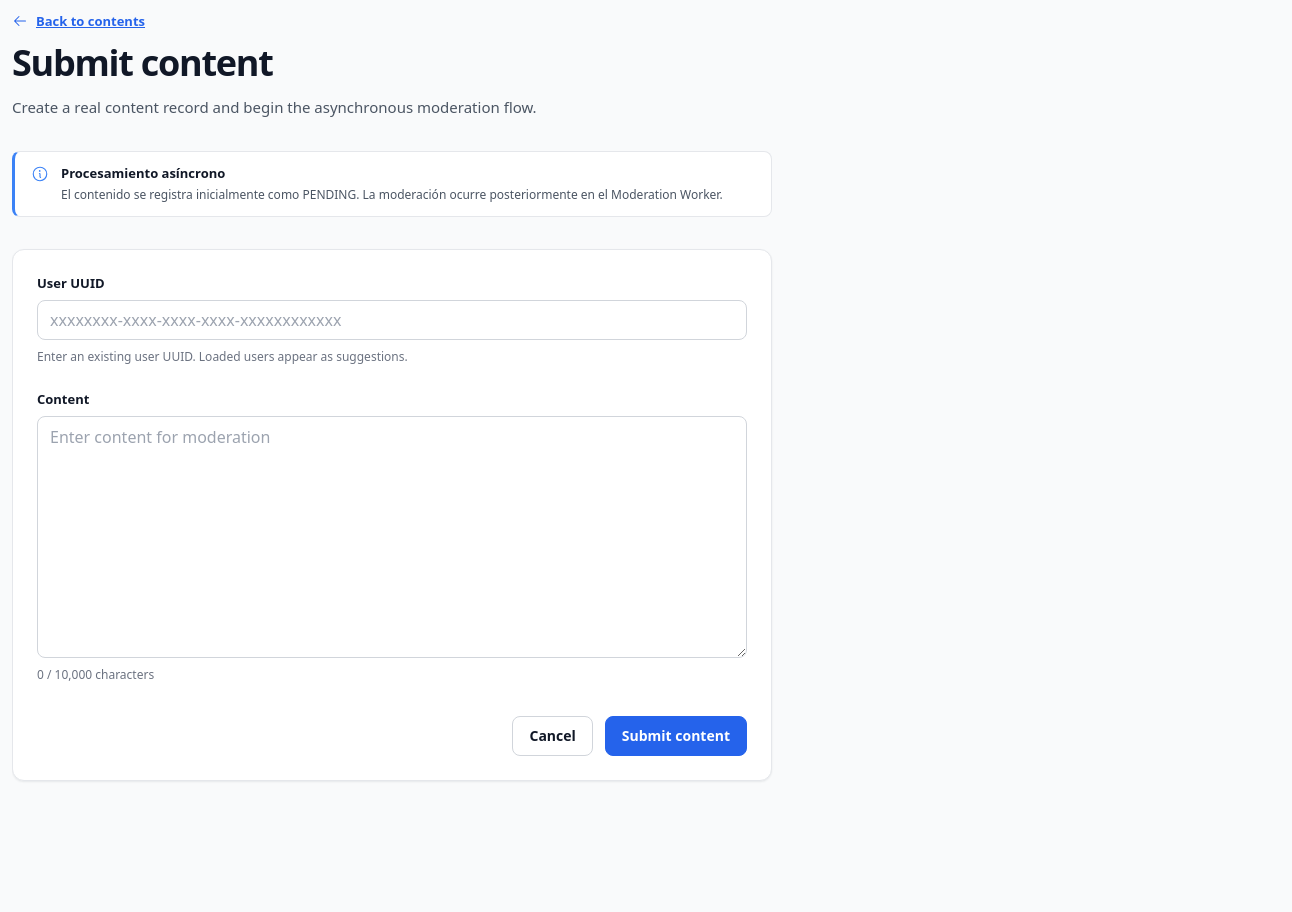
Test: CreateContentPage › submits the real DTO shape and navigates to content detail
Step 1. Type "11111111-1111-4111-8111-111111111111" into the field labelled "User UUID" → (392, 320), box [37, 300, 747, 340]
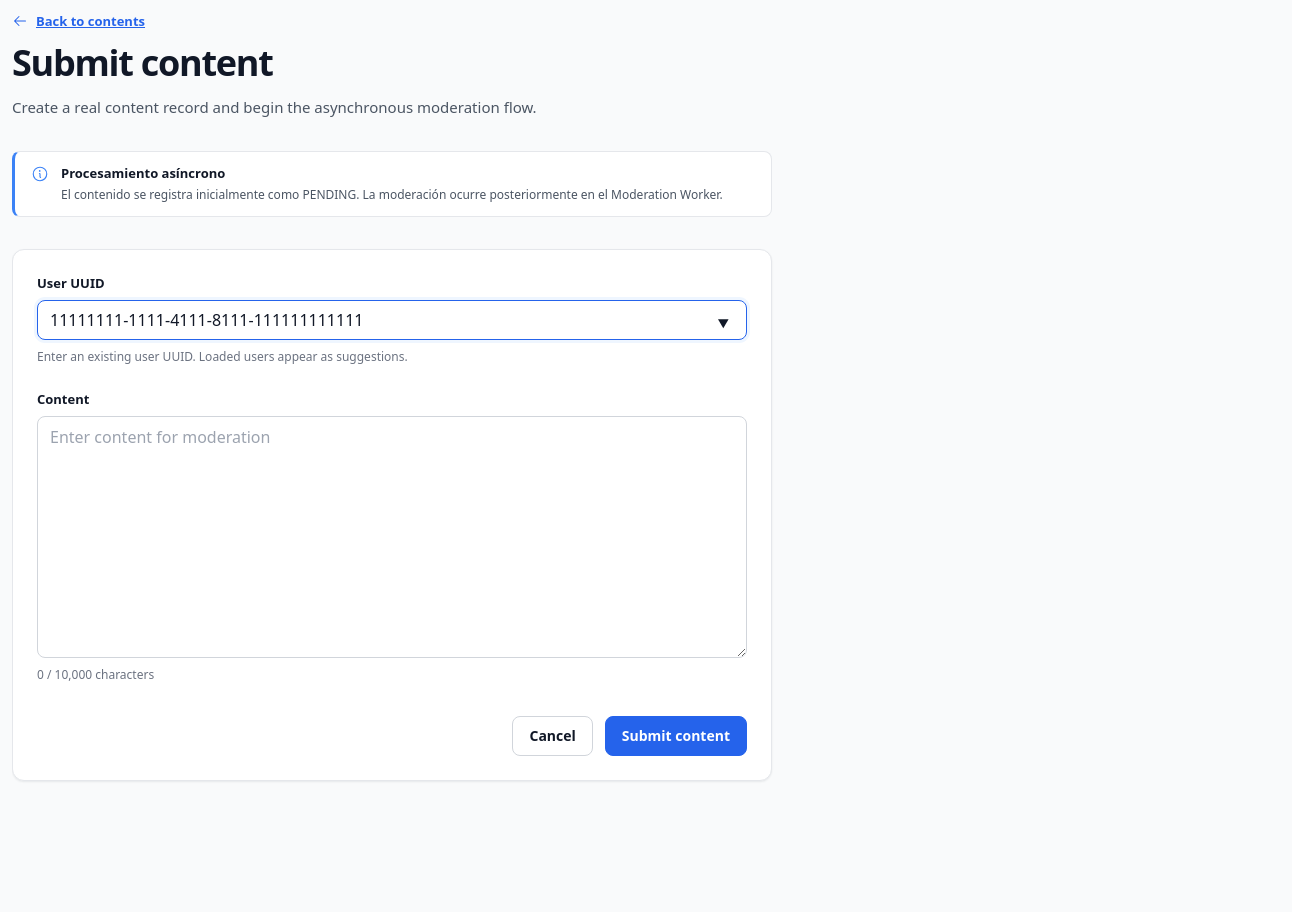
Step 2. Type "A real submission" into the text box labelled "Content" → (392, 537), box [37, 416, 747, 658]
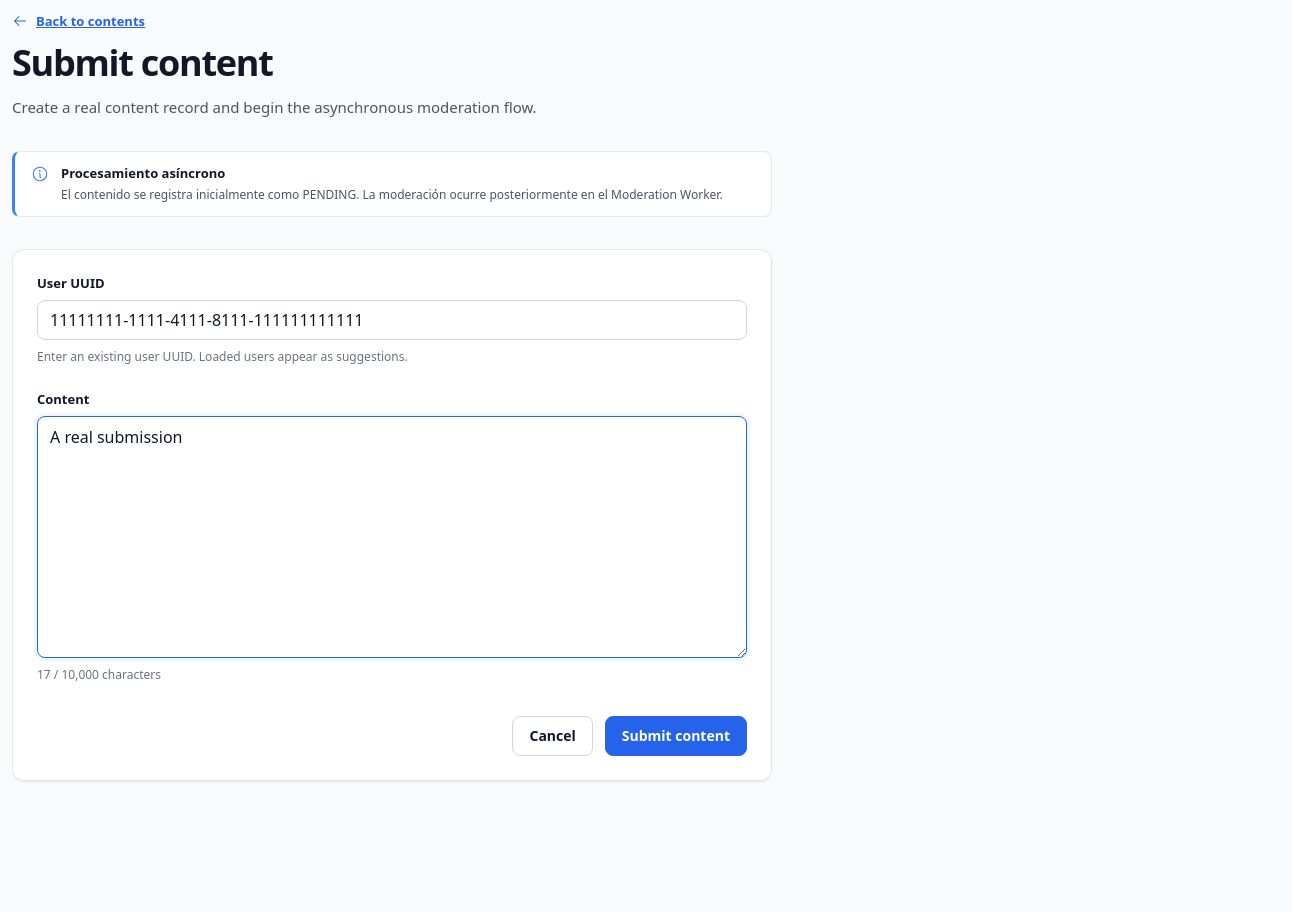
Step 3. Click the button "Submit content" → (676, 736), box [605, 716, 747, 756]
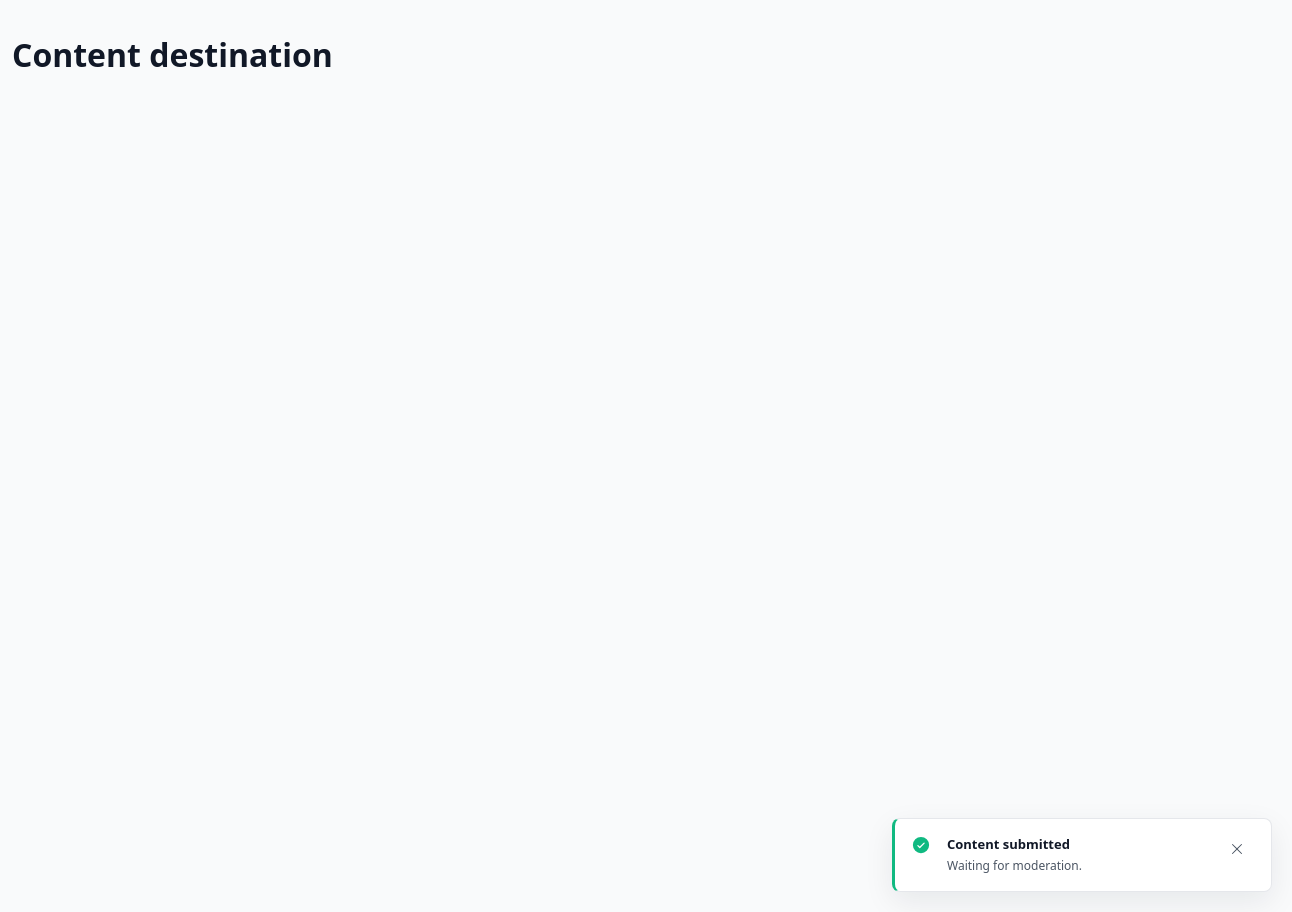
Expected: the heading "Content destination" is shown, [12, 33, 333, 76]
